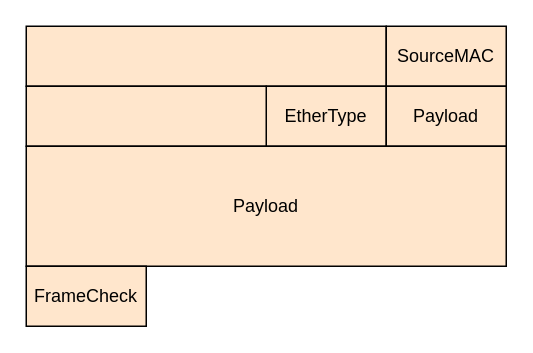
Image size: 533x353. Some labels were removed from this diagram. Here are the shapes that lost their labels. From the top down, the centre of each, then its label:
pixel 205 55: Destination MAC
pixel 145 115: Source MAC
